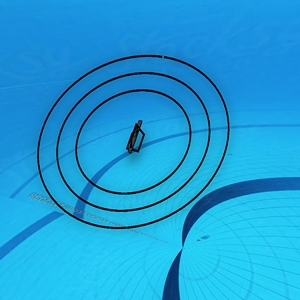circle: (33, 37, 236, 256)
submarine: (125, 120, 144, 157)
